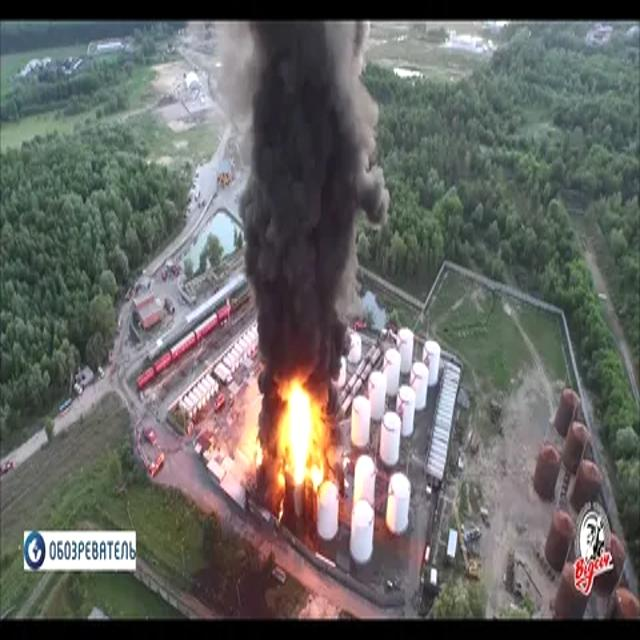Smoke: (235, 19, 390, 432)
